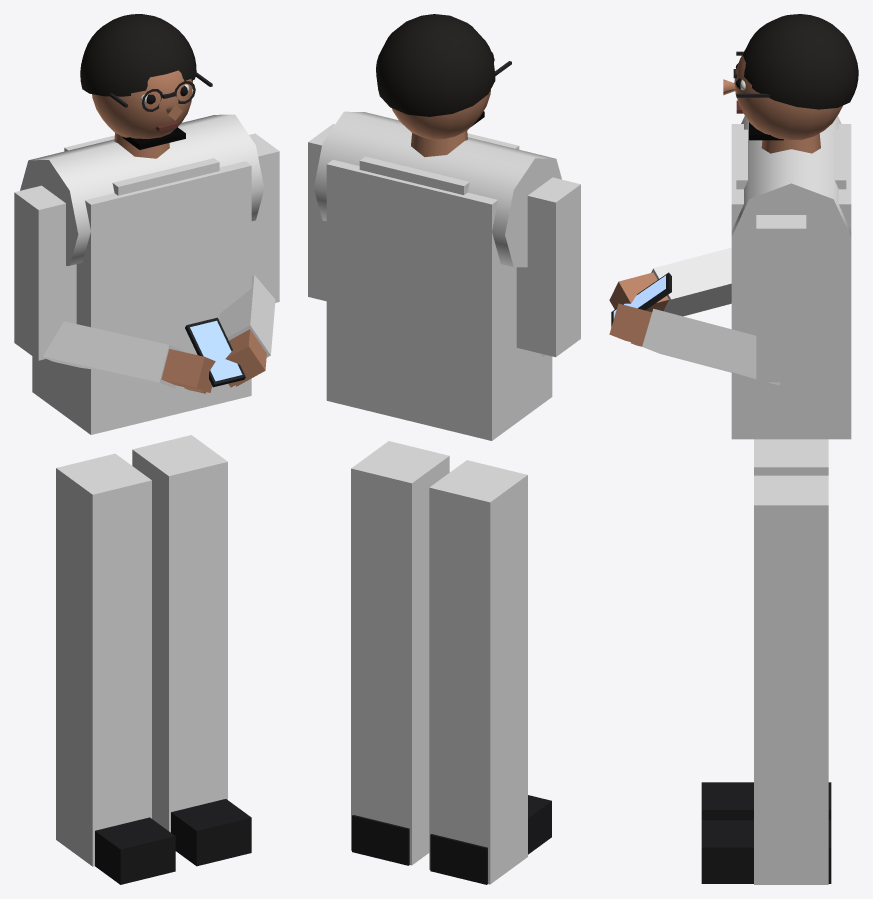
File: NPC_dad.fbx
3 views of the same model, side by side, from view 1: azimuth 30°, elevation 25°; view 2: azimuth 150°, elevation 25°; view 3: azimuth 270°, elevation 25° (orthographic). The views are drawn at different scales.
Visible parts, largest first — view 1: Body_Cloth_Shirt.002, Body_Cloth_Pants.002, Body_Shoe.002, Head_Hair.002, Head_Skin.002, Body_Skin.002, Prop_Phone_PhoneScreen, Prop_Phone_PhoneBody, Head_GlassesFrame, Head_JawShade.002; view 2: Body_Cloth_Shirt.002, Body_Cloth_Pants.002, Head_Hair.002, Body_Shoe.002, Head_Skin.002, Body_Skin.002; view 3: Body_Cloth_Shirt.002, Body_Cloth_Pants.002, Head_Hair.002, Body_Shoe.002, Head_Skin.002, Body_Skin.002, Prop_Phone_PhoneScreen.
Boxes of the visible parts, left/top/right/bottom form: Body_Cloth_Shirt.002: left=14, top=114, right=279, bottom=434; Body_Cloth_Pants.002: left=56, top=435, right=227, bottom=866; Body_Shoe.002: left=95, top=799, right=251, bottom=884; Head_Hair.002: left=80, top=14, right=196, bottom=96; Head_Skin.002: left=92, top=70, right=192, bottom=138; Body_Skin.002: left=114, top=133, right=266, bottom=393; Prop_Phone_PhoneScreen: left=190, top=320, right=242, bottom=381; Prop_Phone_PhoneBody: left=185, top=317, right=245, bottom=387; Head_GlassesFrame: left=109, top=72, right=212, bottom=111; Head_JawShade.002: left=122, top=127, right=185, bottom=149; Body_Cloth_Shirt.002: left=308, top=111, right=580, bottom=440; Body_Cloth_Pants.002: left=351, top=441, right=527, bottom=884; Head_Hair.002: left=376, top=14, right=495, bottom=116; Body_Shoe.002: left=352, top=795, right=551, bottom=884; Head_Skin.002: left=392, top=89, right=490, bottom=139; Body_Skin.002: left=411, top=130, right=467, bottom=157; Body_Cloth_Shirt.002: left=642, top=116, right=851, bottom=439; Body_Cloth_Pants.002: left=754, top=439, right=828, bottom=884; Head_Hair.002: left=743, top=14, right=858, bottom=109; Body_Shoe.002: left=701, top=782, right=831, bottom=883; Head_Skin.002: left=723, top=50, right=842, bottom=139; Body_Skin.002: left=609, top=133, right=820, bottom=346; Prop_Phone_PhoneScreen: left=613, top=275, right=665, bottom=318.
Size of the model in its own units: 0.57 by 1.84 by 0.4996.
